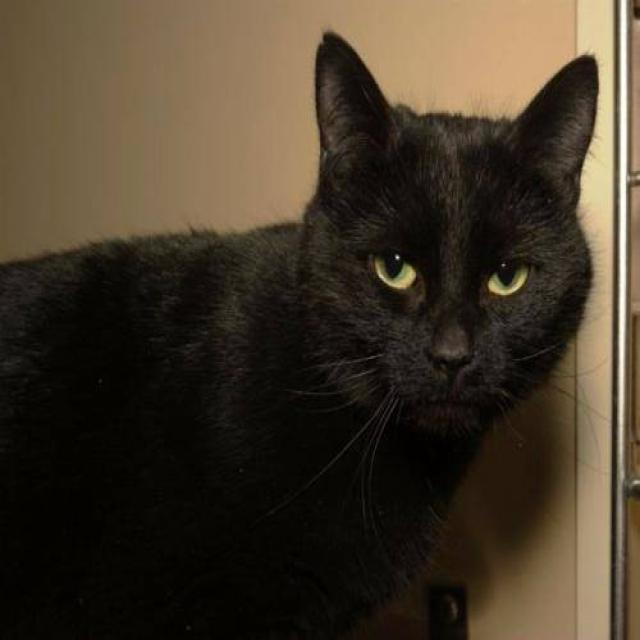cat: (0, 27, 600, 638)
